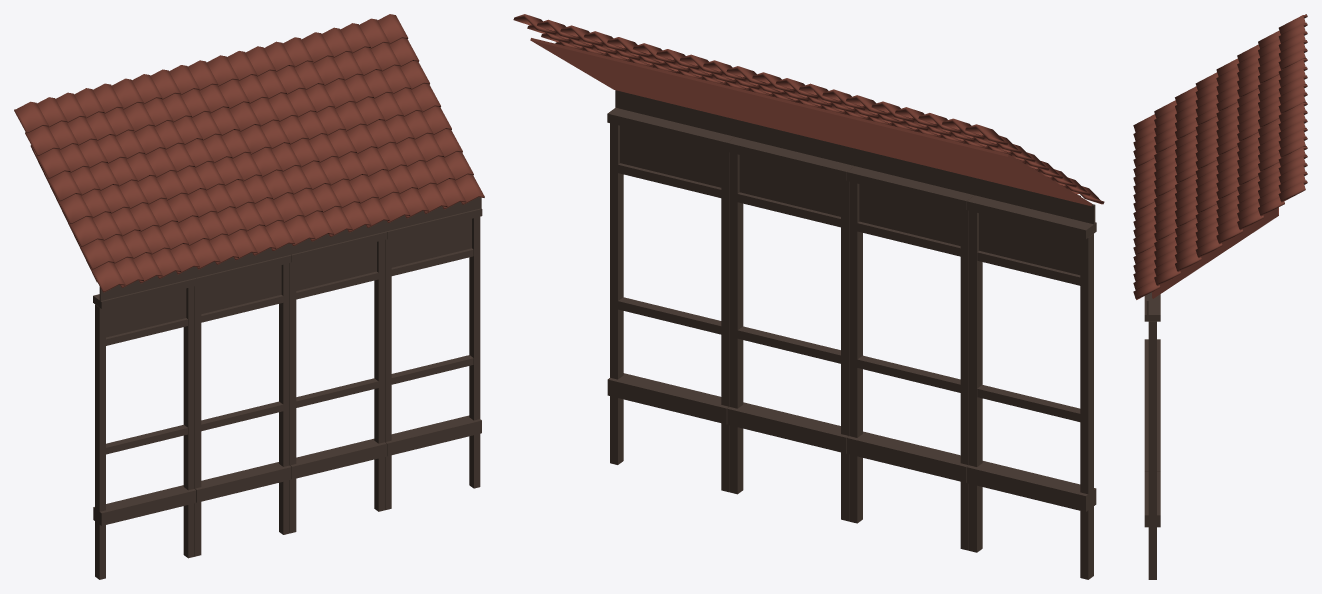
File: outside-panel-fence-L4.fbx
3 renders of one model, left to right at view 1: azimuth 30°, elevation 25°; view 2: azimuth 150°, elevation 25°; view 3: azimuth 270°, elevation 25°, orthographic. The views are drawn at different scales.
Visible parts, largest first — view 1: Cube.025, Cube.018; view 2: Cube.018, Cube.025; view 3: Cube.025, Cube.018.
Part boxes in pixels (x1=…): Cube.025: x1=14, y1=14, x2=484, y2=292; Cube.018: x1=93, y1=197, x2=482, y2=579; Cube.018: x1=607, y1=90, x2=1096, y2=579; Cube.025: x1=513, y1=14, x2=1104, y2=206; Cube.025: x1=1133, y1=14, x2=1307, y2=299; Cube.018: x1=1144, y1=292, x2=1160, y2=579.
Bounding box in the file's own units: 405 × 420 × 168.
